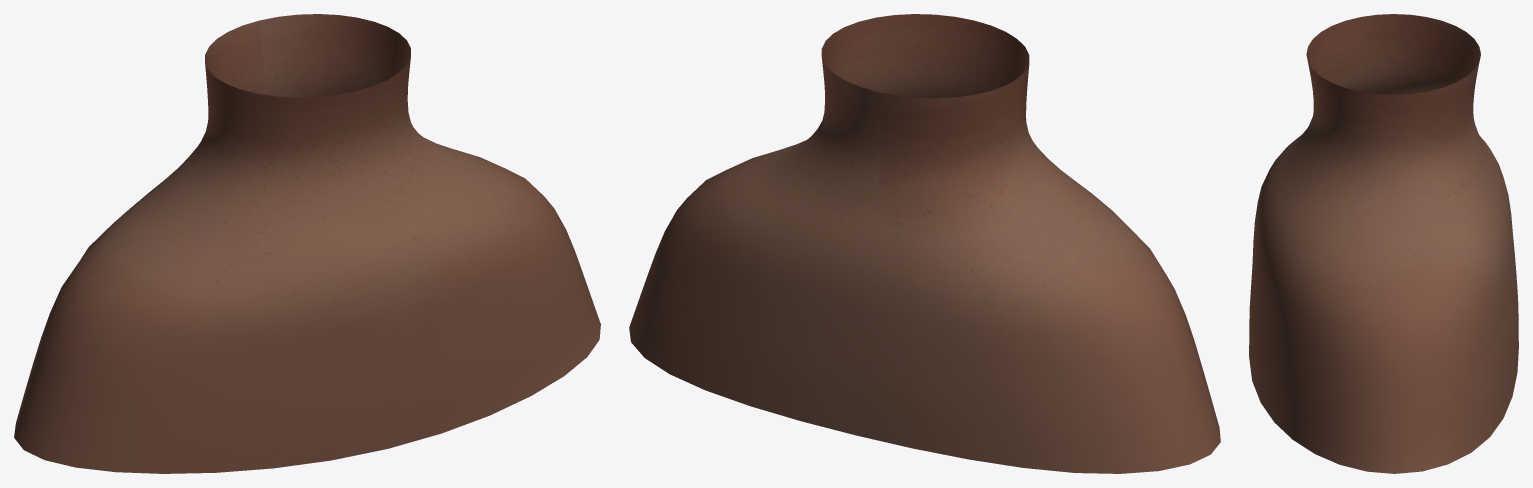
The model's file is neck0.glb.
3 renders of one model, left to right at view 1: azimuth 30°, elevation 25°; view 2: azimuth 150°, elevation 25°; view 3: azimuth 270°, elevation 25°, orthographic. The views are drawn at different scales.
Parts seen in each view (by area): view 1: neck.000; view 2: neck.000; view 3: neck.000.
Boxes of the visible parts, <box> form: neck.000: <box>14,14,600,473</box>; neck.000: <box>629,14,1220,473</box>; neck.000: <box>1249,14,1518,473</box>.
Bounding box in the file's own units: 1.64 × 0.9237 × 0.7463.
Materials: 1 (1 with a texture image).
